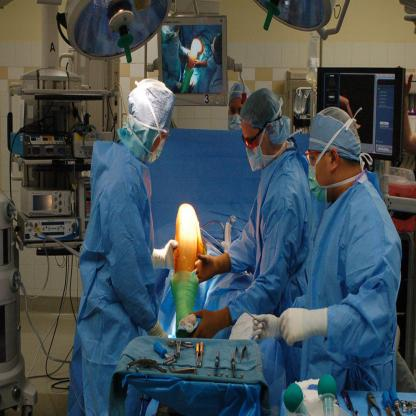face: (309, 140, 331, 203), (242, 118, 265, 172), (149, 123, 171, 164), (229, 95, 249, 133)
